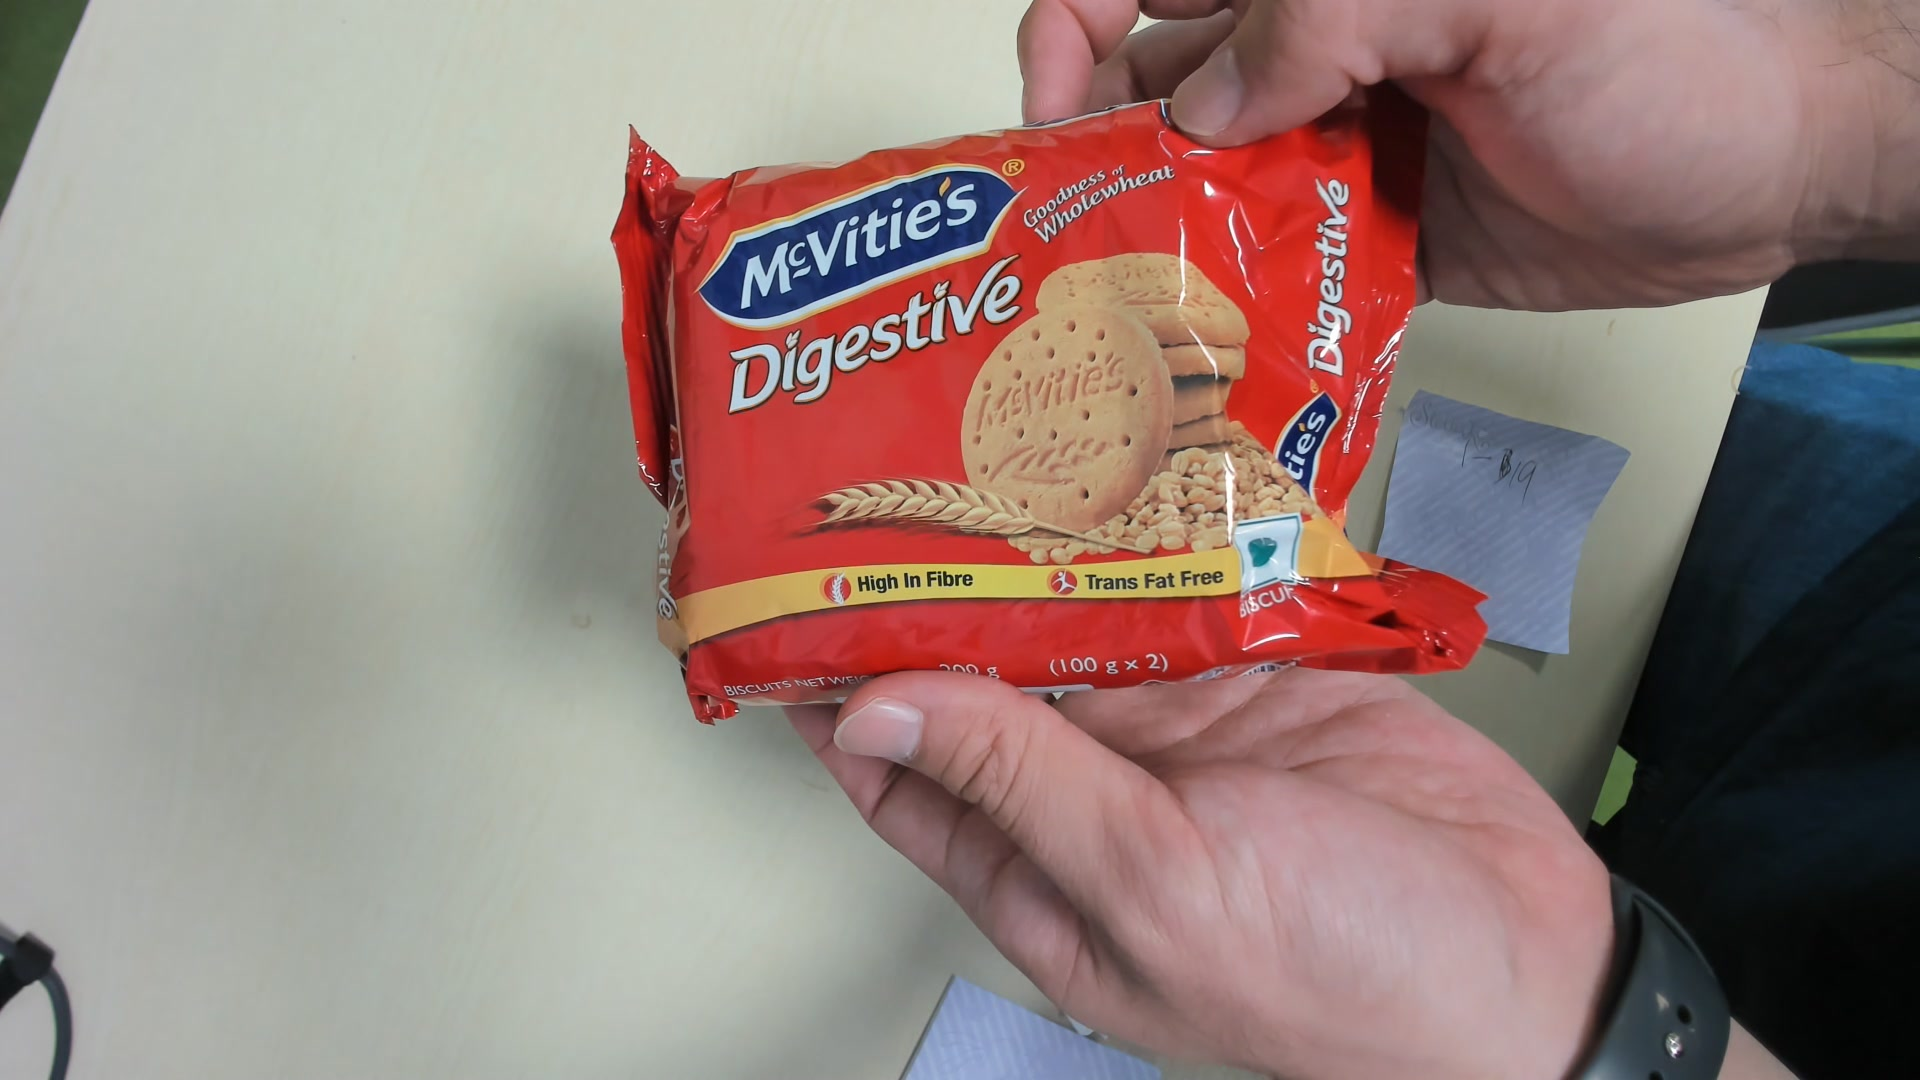BiscuitsCrackersCookies_200-299g_NonHalal_NonHealthy: (620, 102, 1482, 705)
